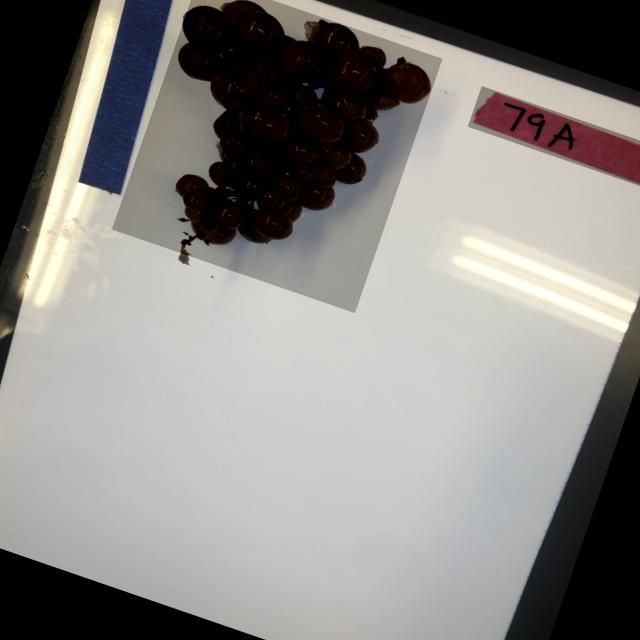grape_cluster: (111, 0, 442, 312)
index: (467, 86, 640, 192)
measure_label: (58, 0, 196, 197)
